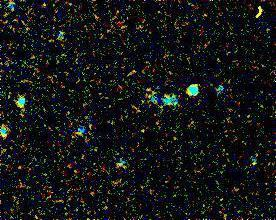star: (239, 149, 269, 179)
